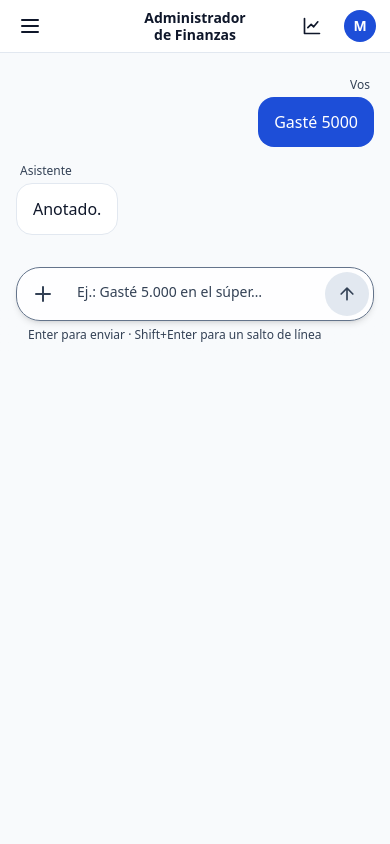
Test case: el botón del balance (a la derecha) abre el balance del mes › abre el cajón con el resumen del mes y el botón anuncia que está abierto
This screenshot has width=390, height=844.
Expected: the element "Este mes" is not shown
Click the button named "Balance del mes": (312, 26) 290,4 -> 334,48
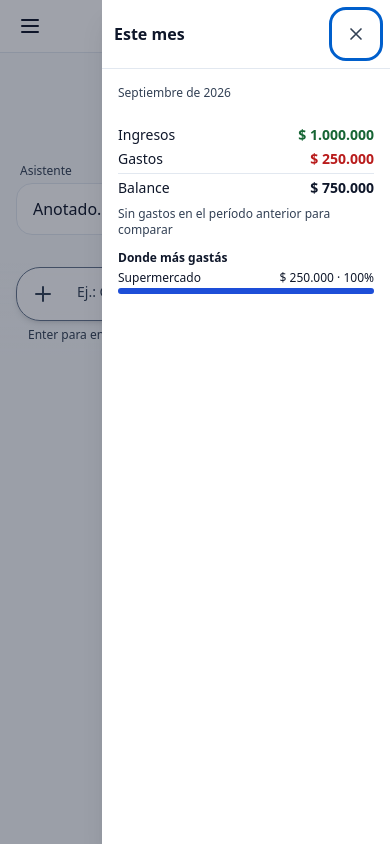
Result: the button named "Balance del mes" is expanded at 290,4 -> 334,48
Result: the dialog "Este mes" shows "septiembre de 2026" at 118,84 -> 231,101
